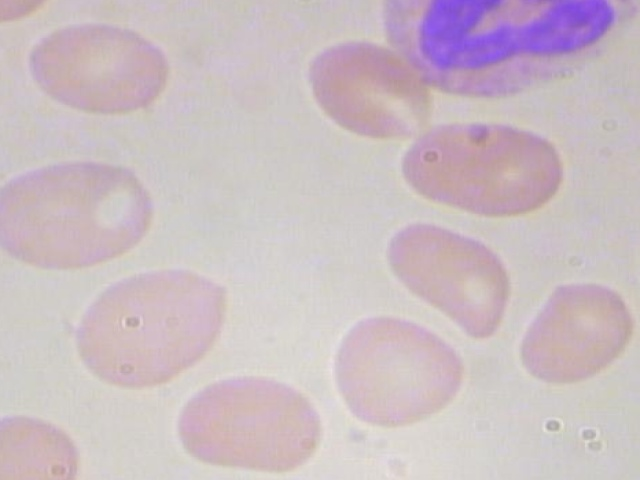RBC: (52, 259, 234, 394), (0, 150, 172, 271), (389, 117, 580, 218), (319, 309, 465, 434), (371, 218, 517, 343), (173, 371, 327, 480), (509, 269, 640, 394), (23, 17, 176, 116), (303, 35, 437, 144), (0, 408, 99, 480)
WBC: (353, 0, 640, 98)
